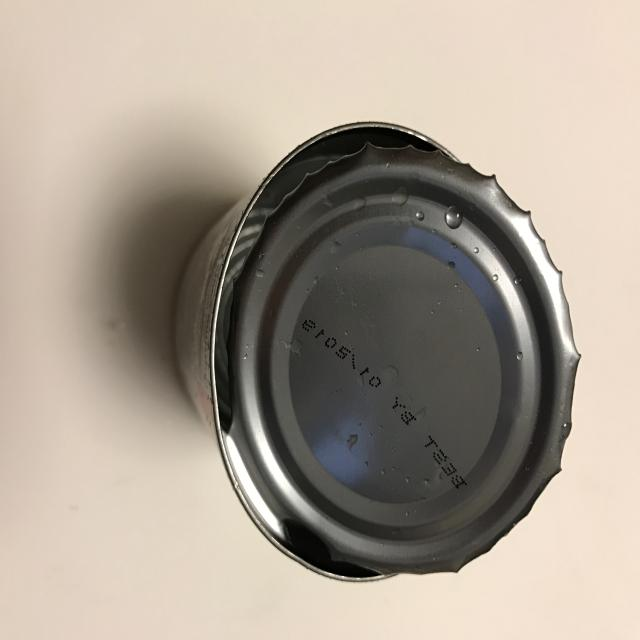metal: (174, 119, 582, 582)
